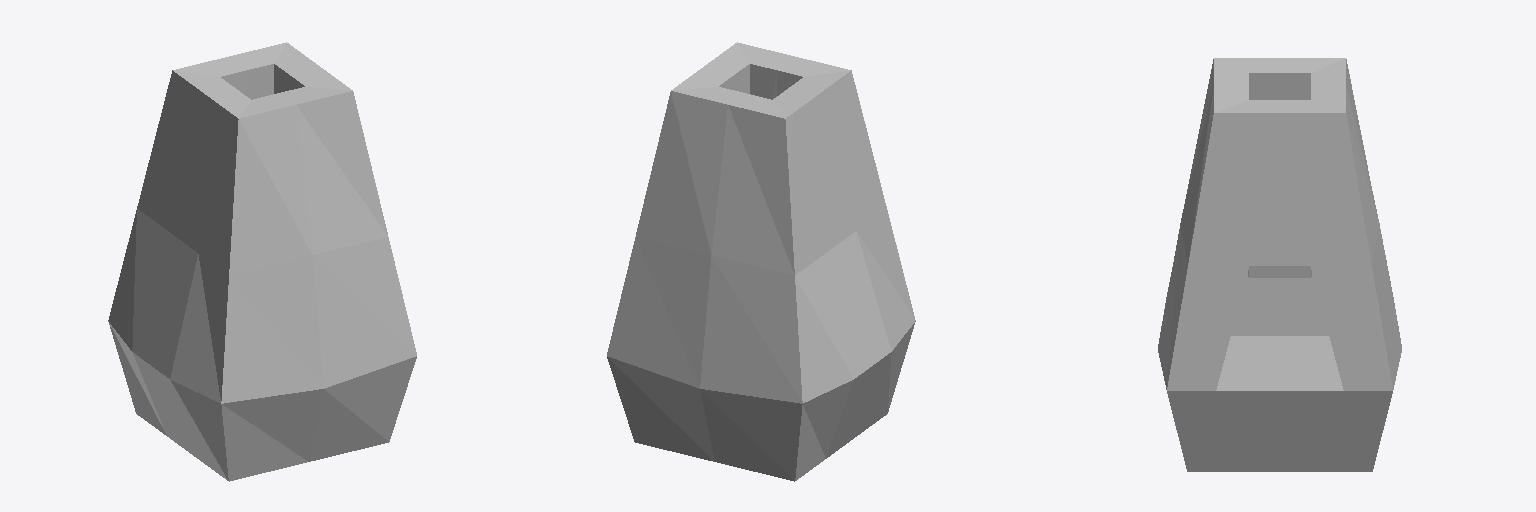
Rendered from IronFurnace.obj.
3 views of the same model, side by side, from view 1: azimuth 30°, elevation 25°; view 2: azimuth 150°, elevation 25°; view 3: azimuth 270°, elevation 25° (orthographic).
Visible parts, largest first — view 1: Cube; view 2: Cube; view 3: Cube.
Boxes of the visible parts, x1,y1,x2,y2 form: Cube: [108, 42, 416, 481]; Cube: [607, 42, 915, 481]; Cube: [1158, 58, 1401, 471].
Size of the model in its own units: 1.87 by 2.96 by 1.89.